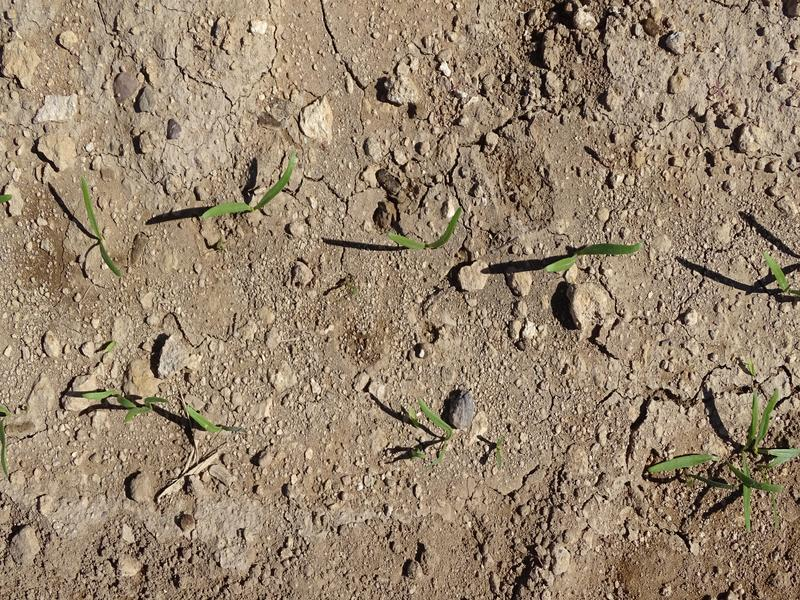Espinaca: (628, 375, 797, 518), (197, 152, 302, 219), (74, 175, 124, 279), (535, 237, 650, 277), (68, 388, 163, 420), (390, 210, 465, 250), (766, 249, 798, 301), (419, 405, 454, 441)
